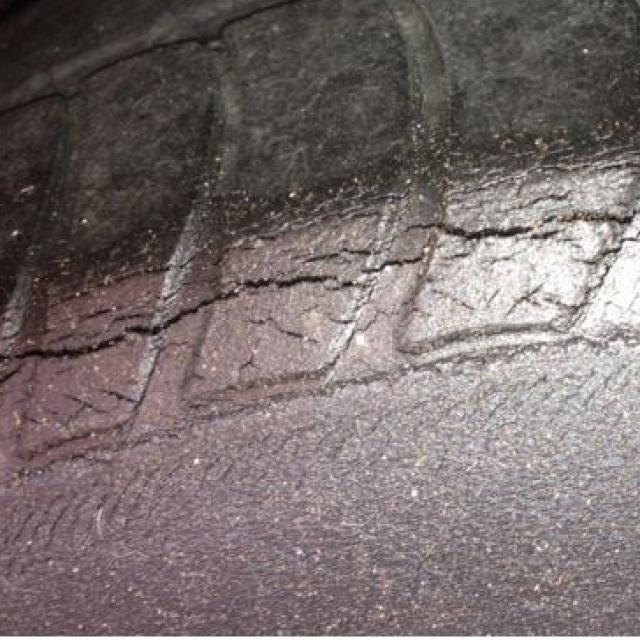Cracks: (0, 146, 638, 460)
